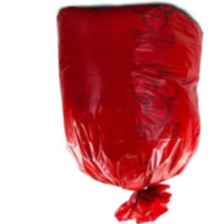plastic_bag: (52, 0, 213, 224)
